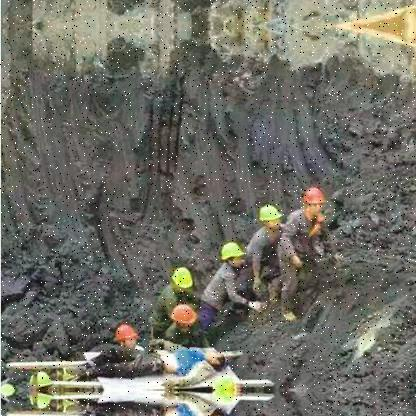Helmet: (165, 298, 205, 331), (107, 318, 142, 353), (298, 185, 331, 219), (216, 236, 247, 272), (254, 199, 284, 233), (168, 264, 197, 295)
